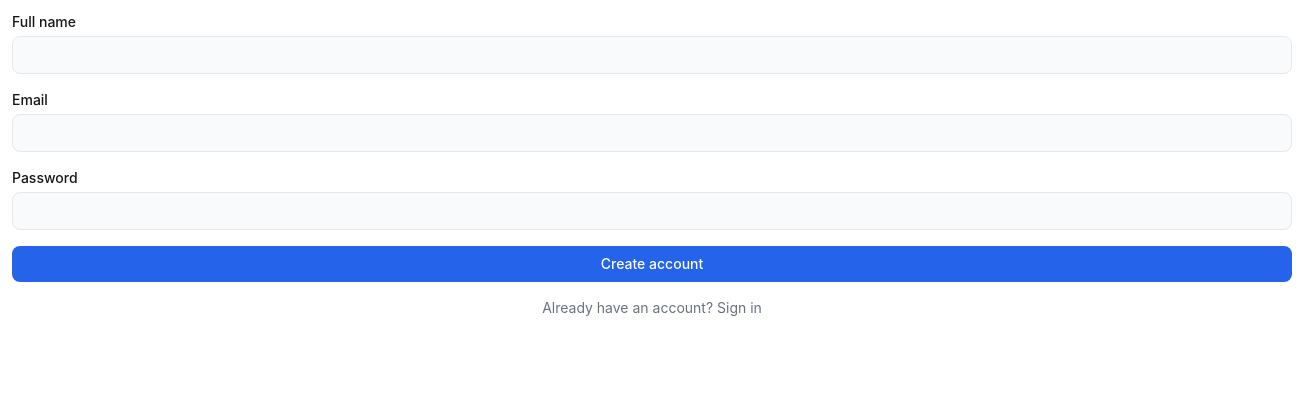
Test: RegisterForm › shows error for duplicate email (409 response)
The image size is (1304, 393).
Type "Test User" into the field labelled "Full name" at x=652, y=55, box [12,36,1292,74]
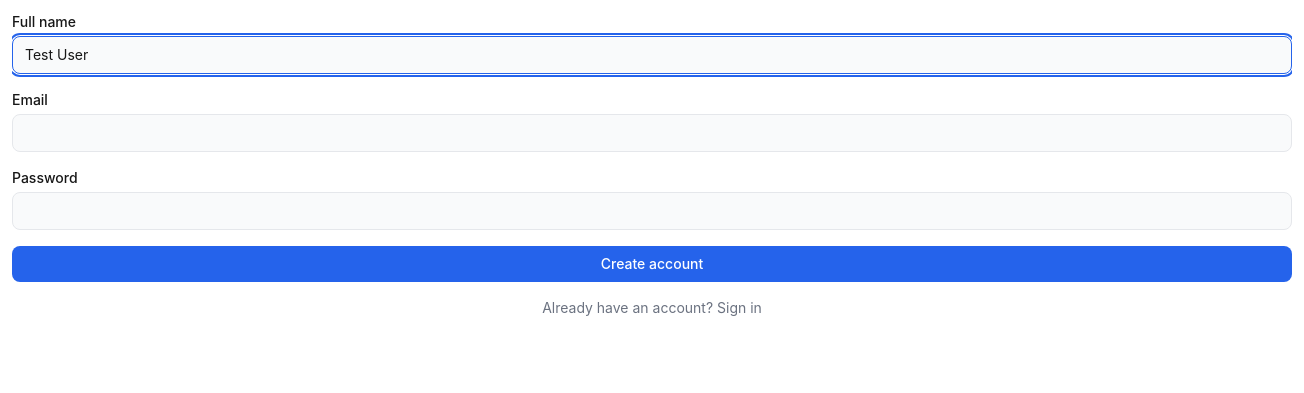
Type "existing@example.com" into the field labelled "Email" at x=652, y=133, box [12,114,1292,152]
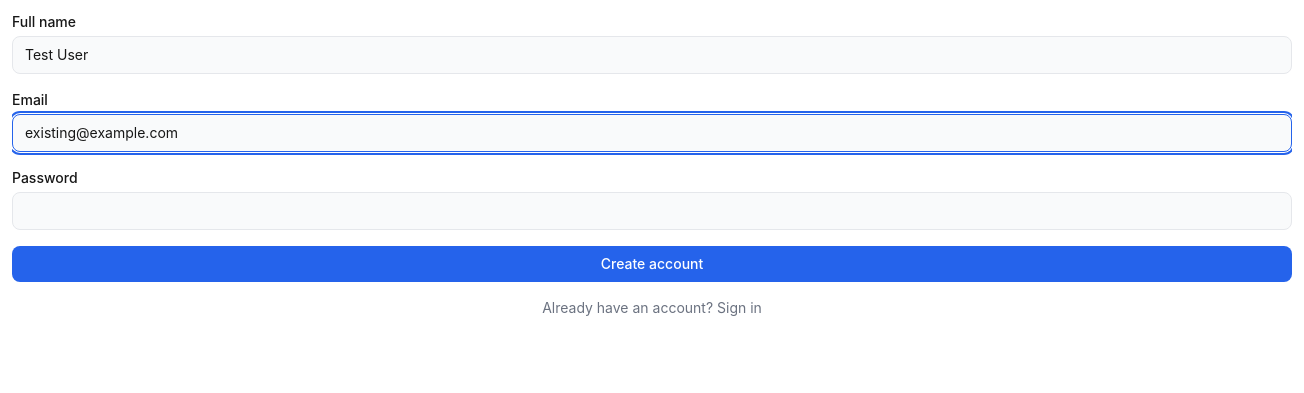
Type "password123" into the password field labelled "Password" at x=652, y=211, box [12,192,1292,230]
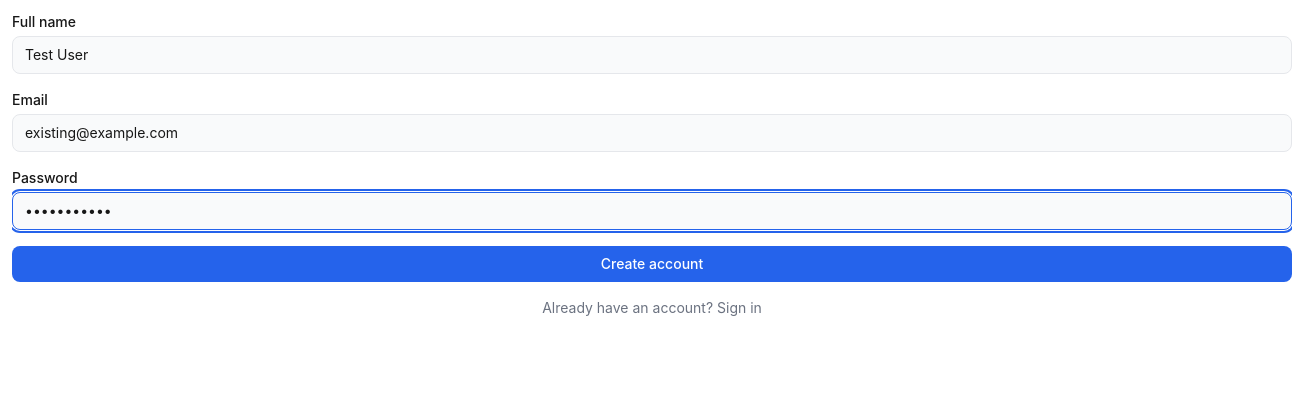
Click the button "Create account" at x=652, y=264, box [12,246,1292,282]
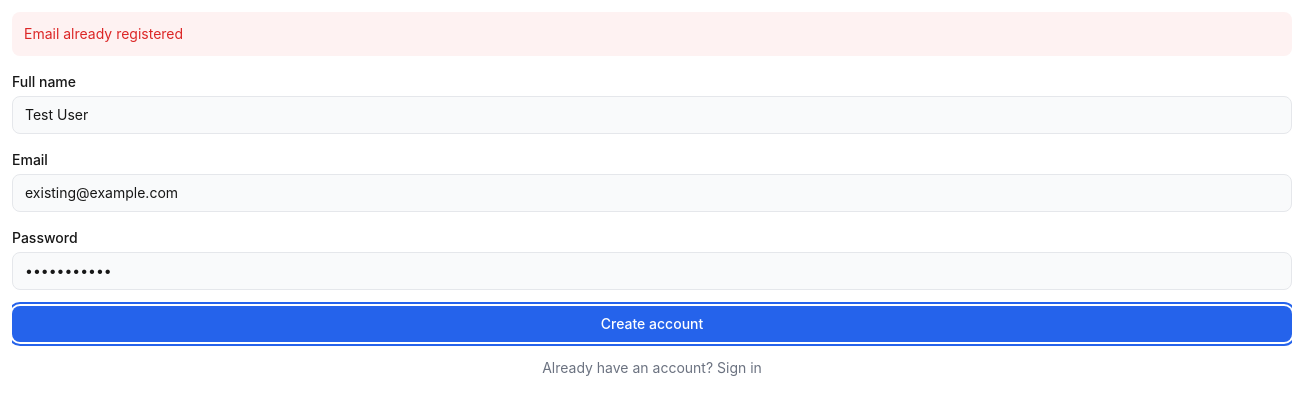
Result: the text "Email already registered" is shown at [12,12,1292,56]
